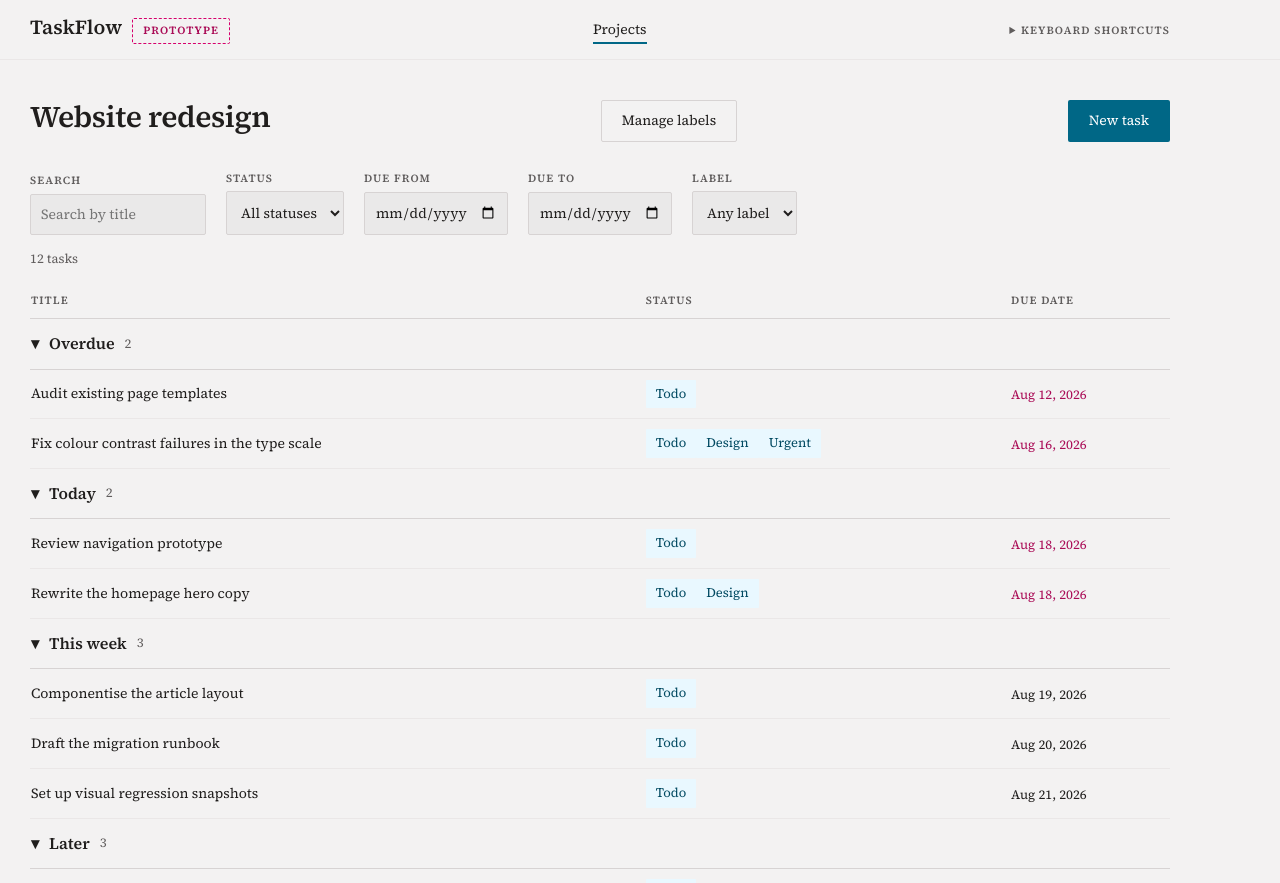
Test case: TaskListPage › the label filter (§3 line 80, replacing the capstone-era mock) › selecting a label pushes ?label=, narrows the results, and clearing removes both
Expected: the link "Audit existing page templates" is shown, [31,383,227,403]
Select "Design" in the dropdown labelled "Label". click: coordinates (744, 213)
box: [692,191,797,235]
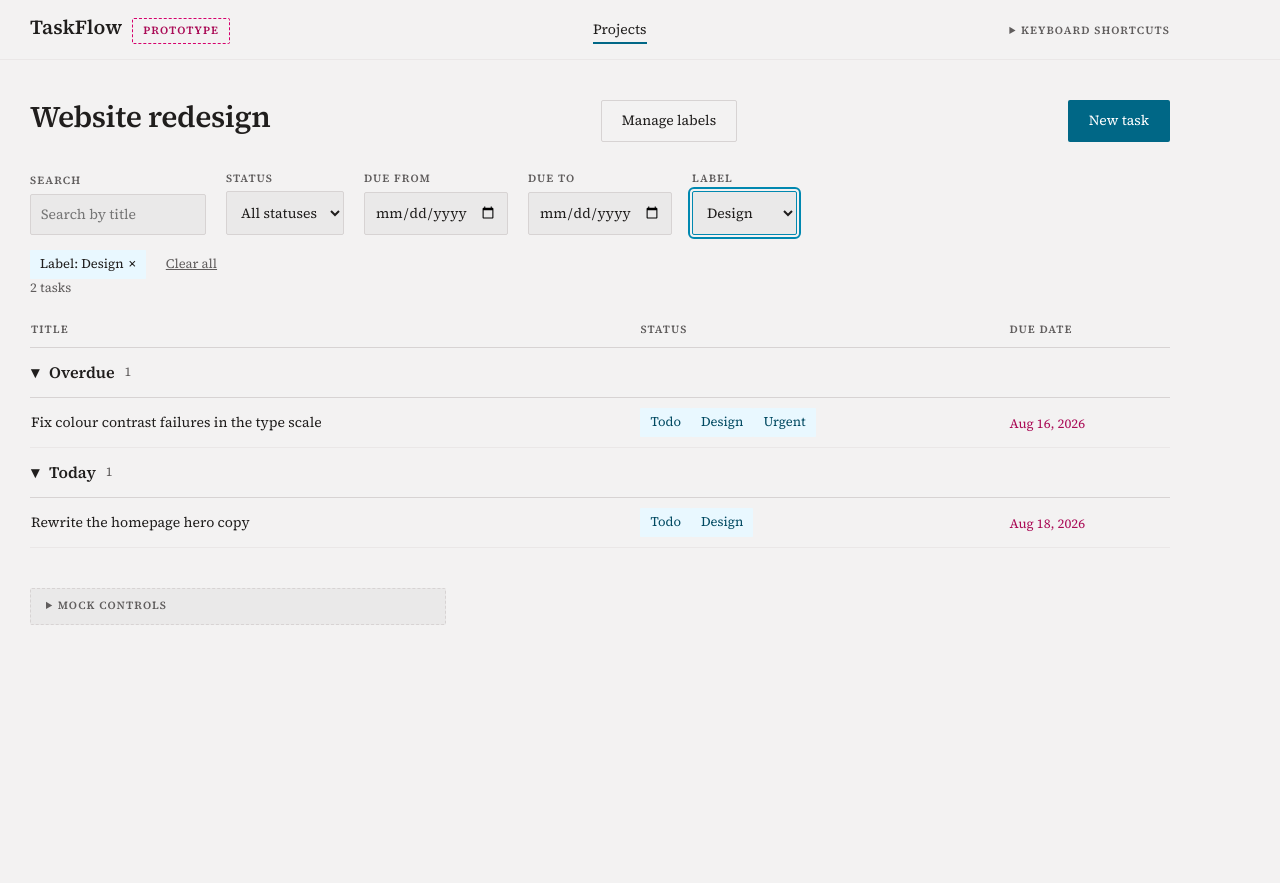
Expected: the link "Fix colour contrast failures in the type scale" is shown, [31,413,327,433]
Result: the link "Audit existing page templates" is gone
Select "Any label" in the dropdown labelled "Label". click: coordinates (744, 213)
box: [692,191,797,235]
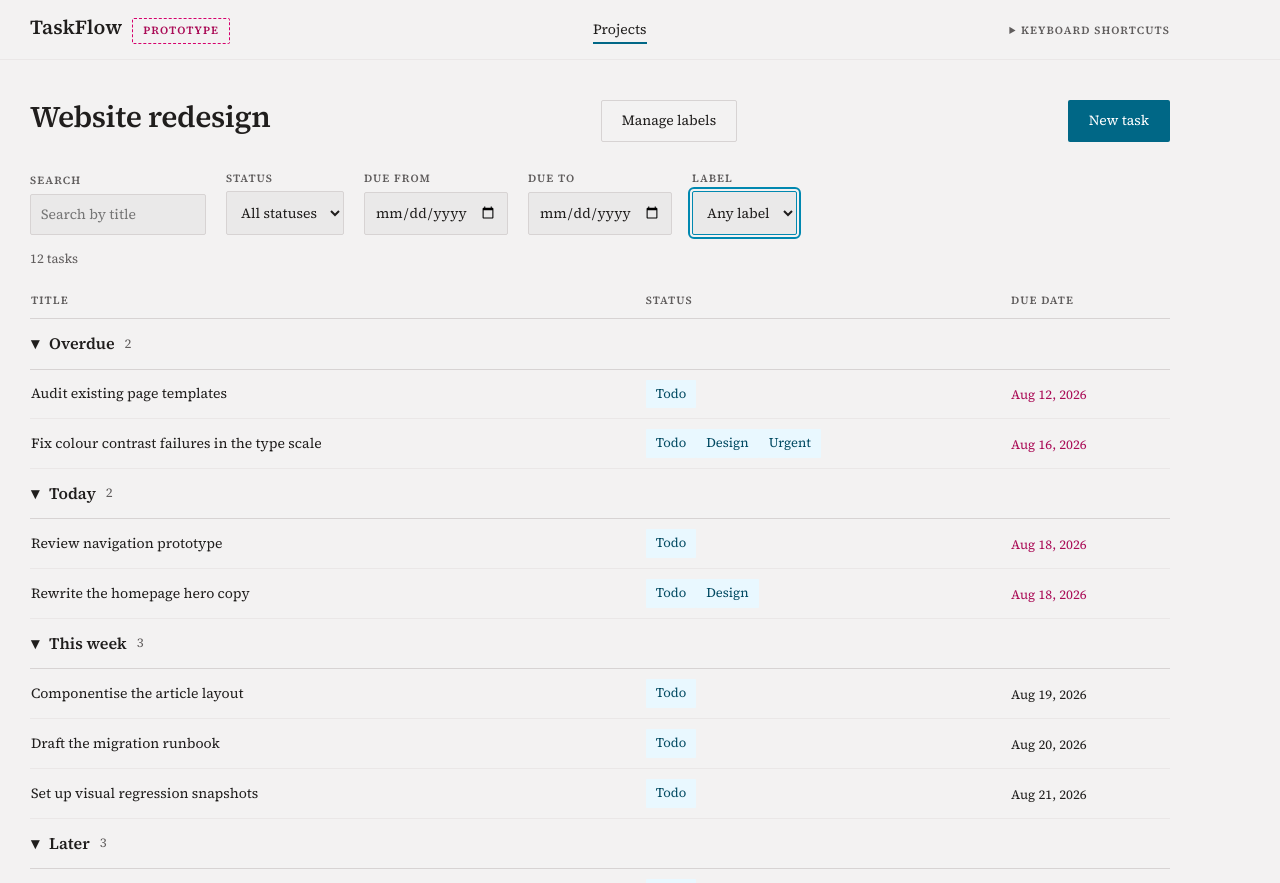
Result: the link "Audit existing page templates" is shown at [31,383,227,403]
